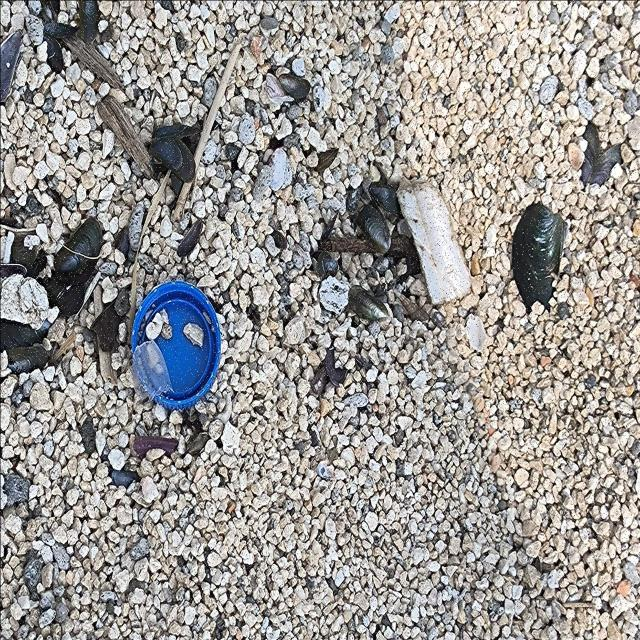plastic_waste: (131, 279, 223, 411)
styrofoam_waste: (396, 175, 472, 307)
